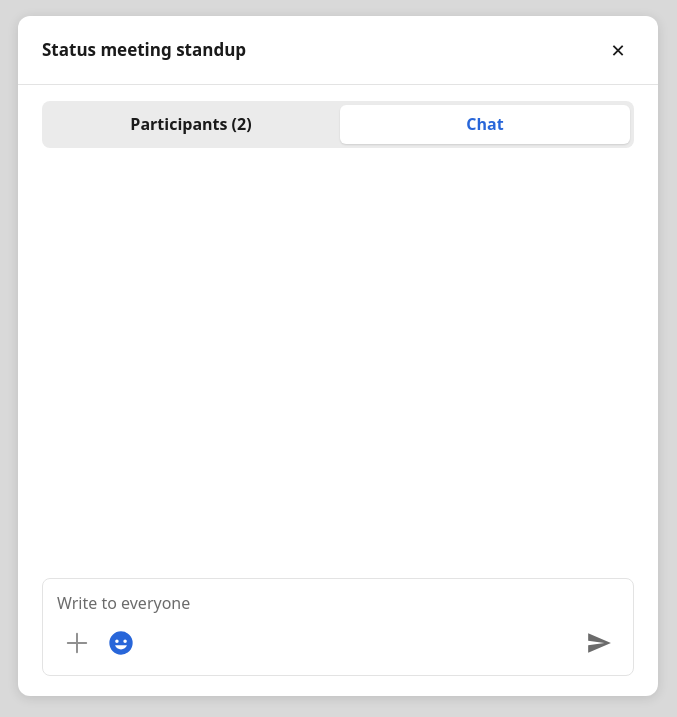
Test: presence › a participant whose channel is still opening is marked, and only that one
Click the tab "Participants (2)" at (191, 125), box [46,105,336,144]
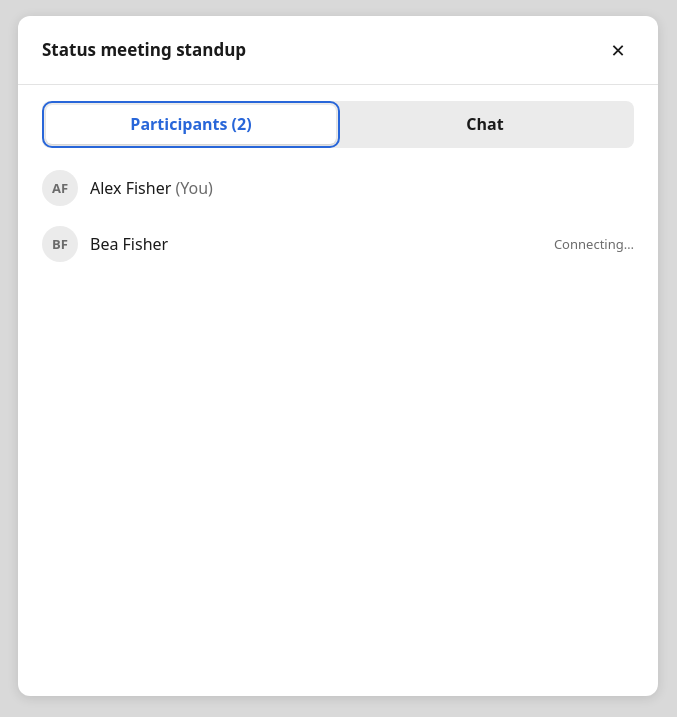
Check: the number of list items is 2, box [42,170,213,206]; [42,216,634,272]
Check: the list item "AF Alex Fisher (You)" is shown, box [42,170,213,206]
Check: the list item "BF Bea Fisher Connecting…" is shown, box [42,216,634,272]
